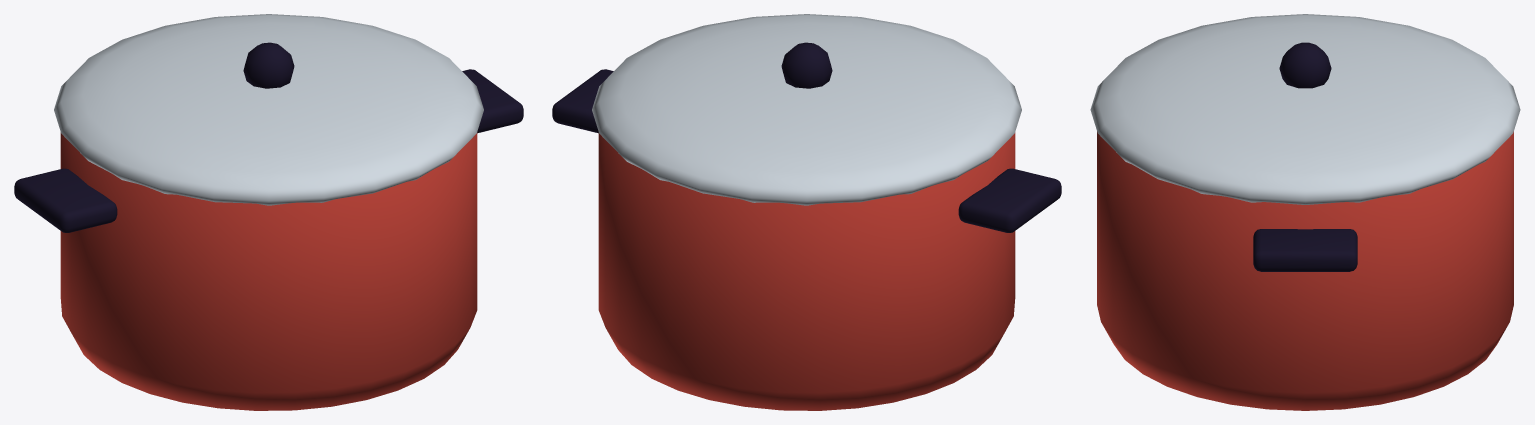
The model's file is kochtopf.glb.
The picture shows the model from 3 angles, left to right: view 1: azimuth 30°, elevation 25°; view 2: azimuth 150°, elevation 25°; view 3: azimuth 270°, elevation 25°; orthographic projection.
Parts seen in each view (by area): view 1: kochtopf-lack, kochtopf-metall; view 2: kochtopf-lack, kochtopf-metall; view 3: kochtopf-lack, kochtopf-metall.
Part boxes in pixels (x1,y1,x2,y2): kochtopf-lack: (14, 42, 523, 410); kochtopf-metall: (54, 14, 483, 205); kochtopf-lack: (552, 42, 1061, 410); kochtopf-metall: (592, 14, 1021, 205); kochtopf-lack: (1097, 42, 1513, 410); kochtopf-metall: (1090, 14, 1520, 204).
Bounding box in the file's own units: 0.82 × 0.48 × 0.66.
